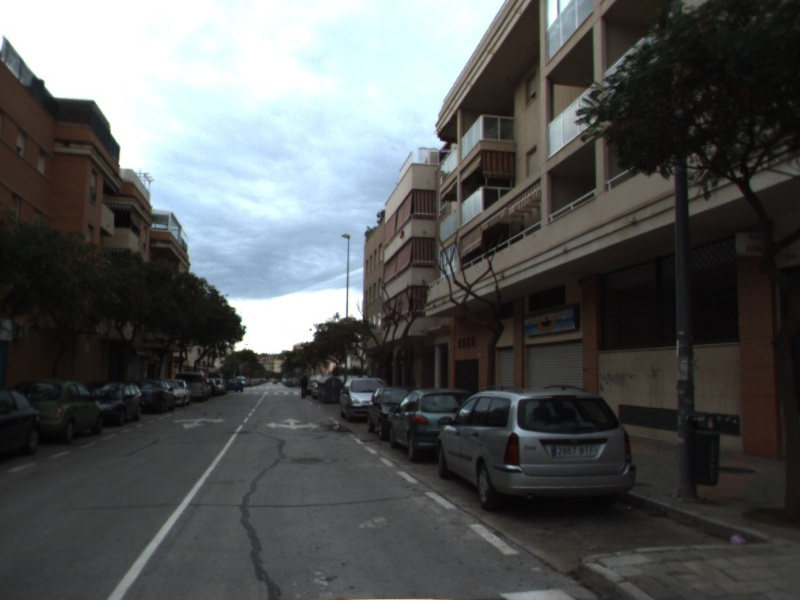STRAIGHT_LEFT_RIGHT: (264, 416, 322, 431)
